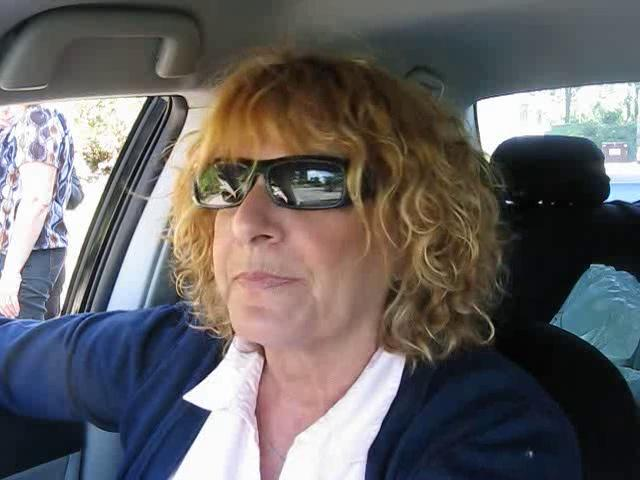no_yawn: (219, 256, 316, 306)
